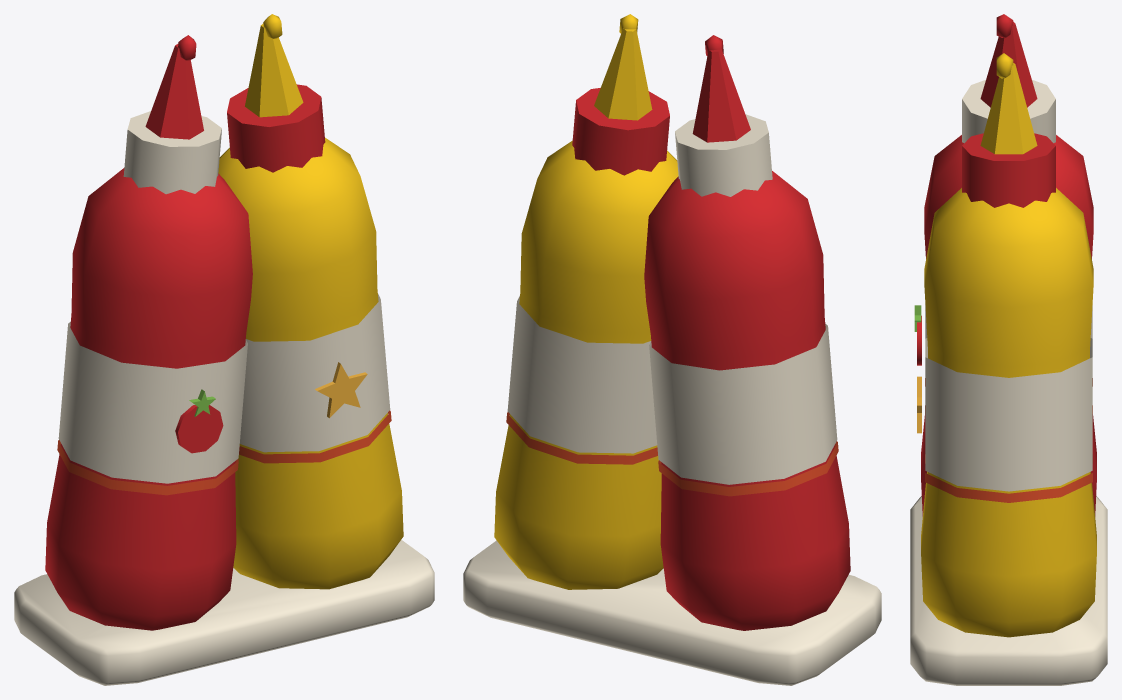
Rendered from Lobby_CondimentStatue.fbx.
The picture shows the model from 3 angles, left to right: view 1: azimuth 30°, elevation 25°; view 2: azimuth 150°, elevation 25°; view 3: azimuth 270°, elevation 25°; orthographic projection. The views are drawn at different scales.
Parts seen in each view (by area): view 1: Ketchup, Cream, Mustard, Stripes, Star; view 2: Cream, Ketchup, Mustard, Stripes; view 3: Mustard, Cream, Ketchup, Stripes.
Part boxes in pixels (box(x1,y1,x2,y2)): Ketchup: box(45, 35, 325, 630); Cream: box(14, 111, 434, 685); Mustard: box(218, 14, 403, 589); Stripes: box(57, 410, 391, 495); Star: box(315, 362, 367, 418); Cream: box(463, 114, 881, 685); Ketchup: box(572, 35, 850, 630); Mustard: box(494, 14, 678, 589); Stripes: box(506, 412, 838, 496); Mustard: box(921, 53, 1096, 637); Cream: box(910, 80, 1107, 685); Ketchup: box(917, 14, 1096, 516); Stripes: box(925, 378, 1092, 502).
Size of the model in its own units: 600 by 960 by 300.
